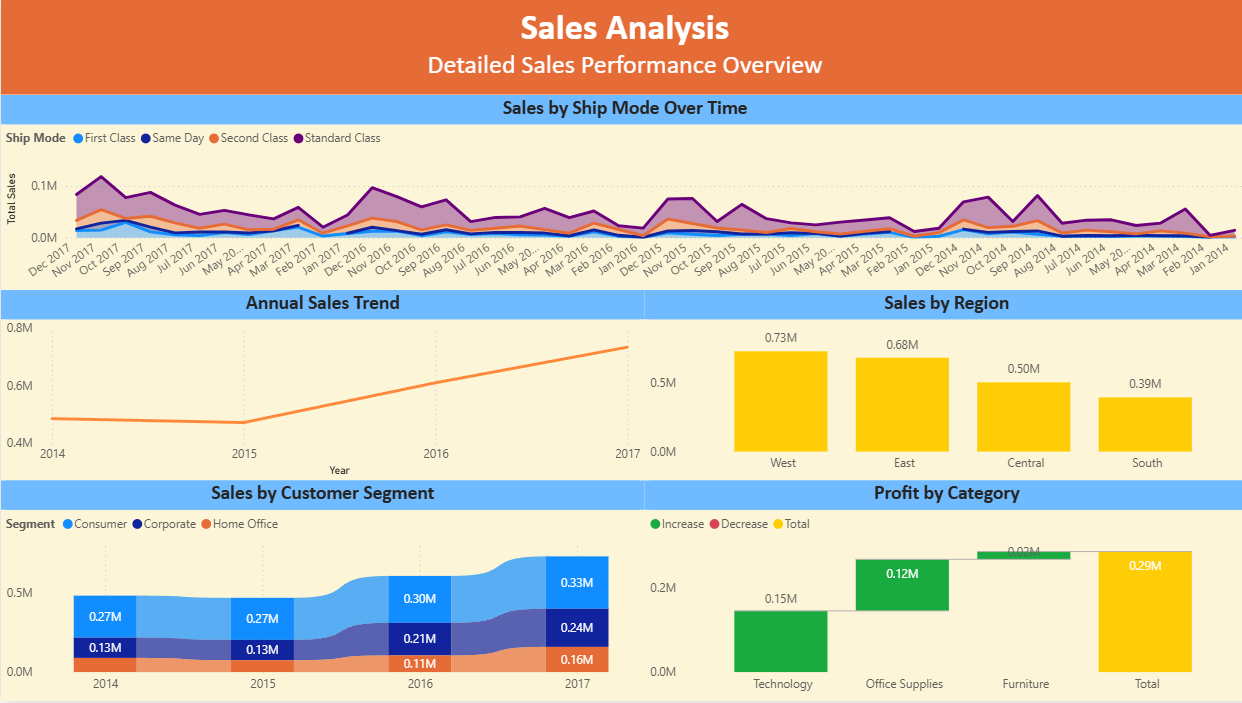

What the dashboard file says about the page in this screenshot:
{"tool":"powerbi","page":{"name":"Sales Analysis","canvas":[1280,720],"ordinal":1},"visuals":[{"type":"textbox","box":[0,0,1280,98],"z":0},{"type":"lineChart","title":"Annual Sales Trend","fields":{"Category":["Calendar.Year"],"Y":["Sample - Superstore.Total Sales"]},"box":[0,298.5,660,195.4],"z":1},{"type":"clusteredColumnChart","title":"Sales by Region","fields":{"Category":["Sample - Superstore.Region"],"Y":["Sample - Superstore.Total Sales"]},"box":[660,298.5,620,195.4],"z":2},{"type":"ribbonChart","title":"Sales by Customer Segment","fields":{"Category":["Calendar.Year"],"Series":["Sample - Superstore.Segment"],"Y":["Sample - Superstore.Total Sales"]},"box":[0,493.8,660,226.2],"z":3},{"type":"stackedAreaChart","title":"Sales by Ship Mode Over Time","fields":{"Category":["Calendar.Month Year"],"Series":["Sample - Superstore.Ship Mode"],"Y":["Sample - Superstore.Total Sales"]},"box":[0,98.5,1280,200],"z":4},{"type":"waterfallChart","title":"Profit by Category","fields":{"Category":["Sample - Superstore.Category"],"Y":["Sample - Superstore.Total Profit"]},"box":[660,493.8,620,226.2],"z":5}]}

Visuals, with their boxes in screenshot pixels (x1, y1, x2, y2), scaled from the page's 1280x720 canvas onto the 1242x703 screenshot:
textbox: 0, 0, 1241, 96
"Annual Sales Trend" lineChart: 0, 291, 640, 482
"Sales by Region" clusteredColumnChart: 640, 291, 1241, 482
"Sales by Customer Segment" ribbonChart: 0, 482, 640, 702
"Sales by Ship Mode Over Time" stackedAreaChart: 0, 96, 1241, 291
"Profit by Category" waterfallChart: 640, 482, 1241, 702
